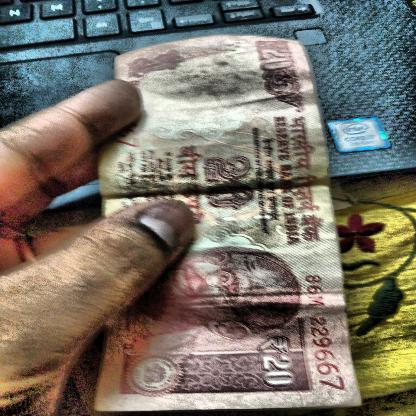Rs20: (199, 150, 259, 214), (251, 332, 300, 390)
